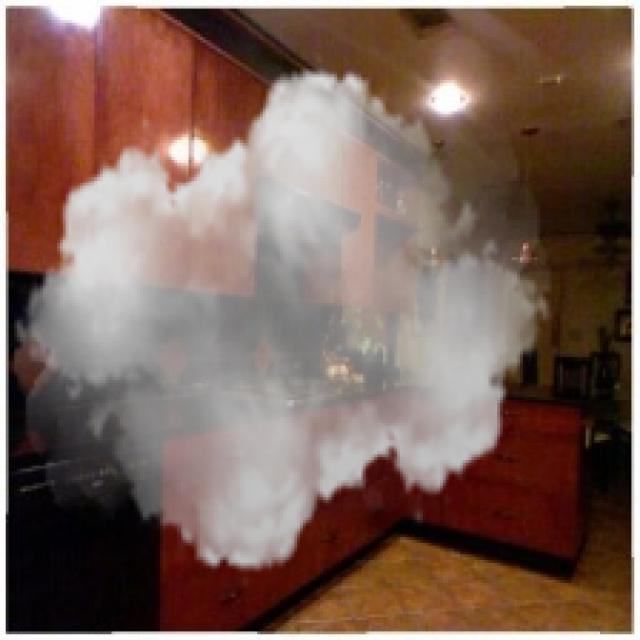smoke: (14, 49, 552, 592)
